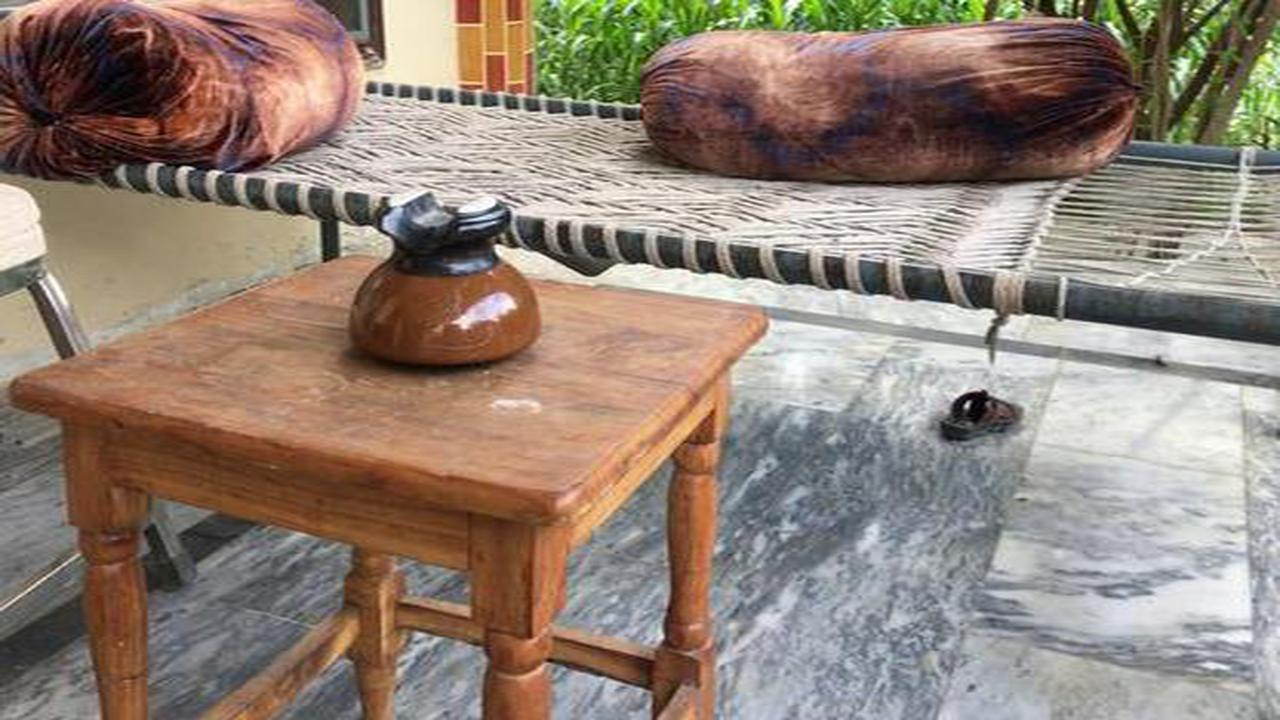insulator_pin: (330, 175, 564, 380)
